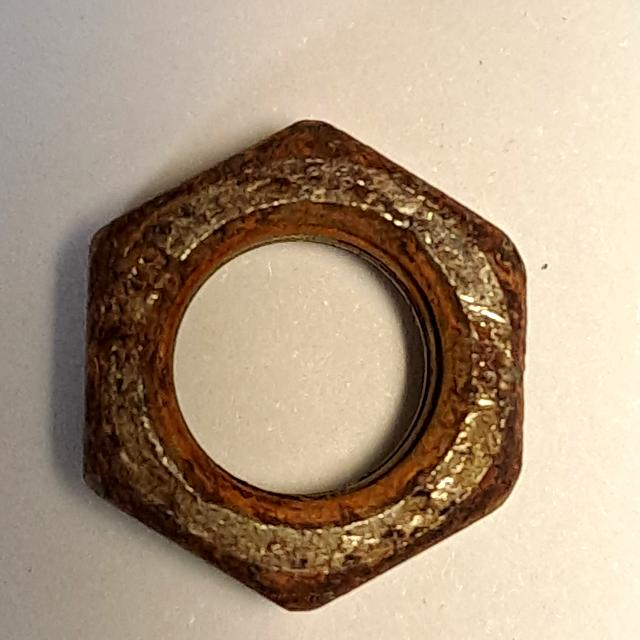Rust: (66, 102, 539, 623)
